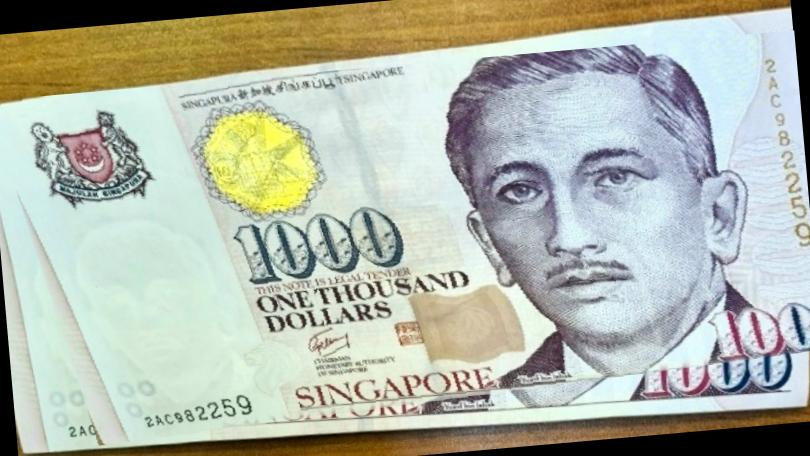1000SingaporeDollar: (0, 31, 810, 453)
